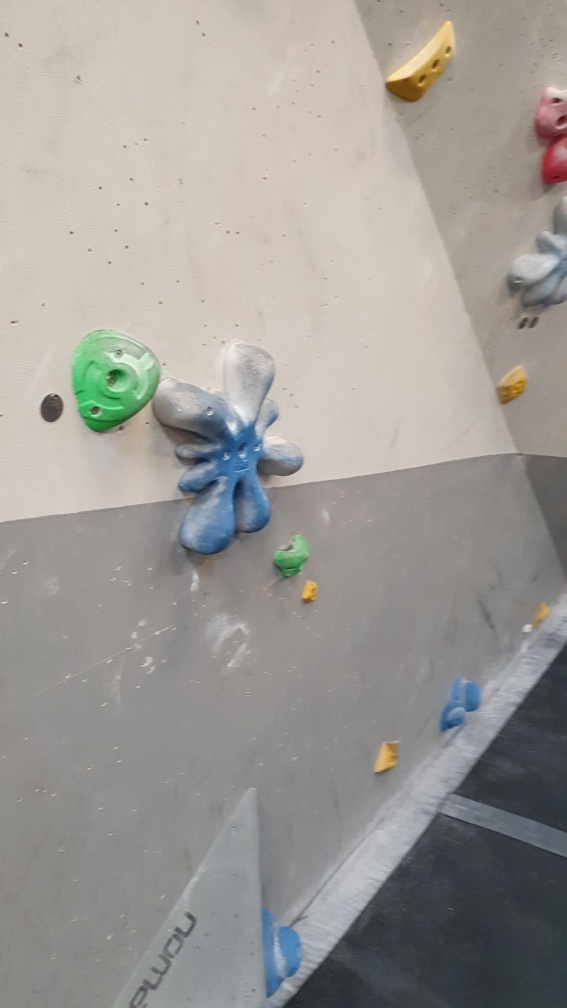Hand Start: (37, 391, 66, 424)
Jug: (70, 323, 162, 441), (274, 536, 313, 584)
Octopus Pinch: (149, 342, 308, 557), (503, 199, 567, 306)
Sloper: (257, 902, 307, 996)
